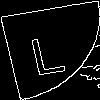L: (25, 25, 68, 76)
